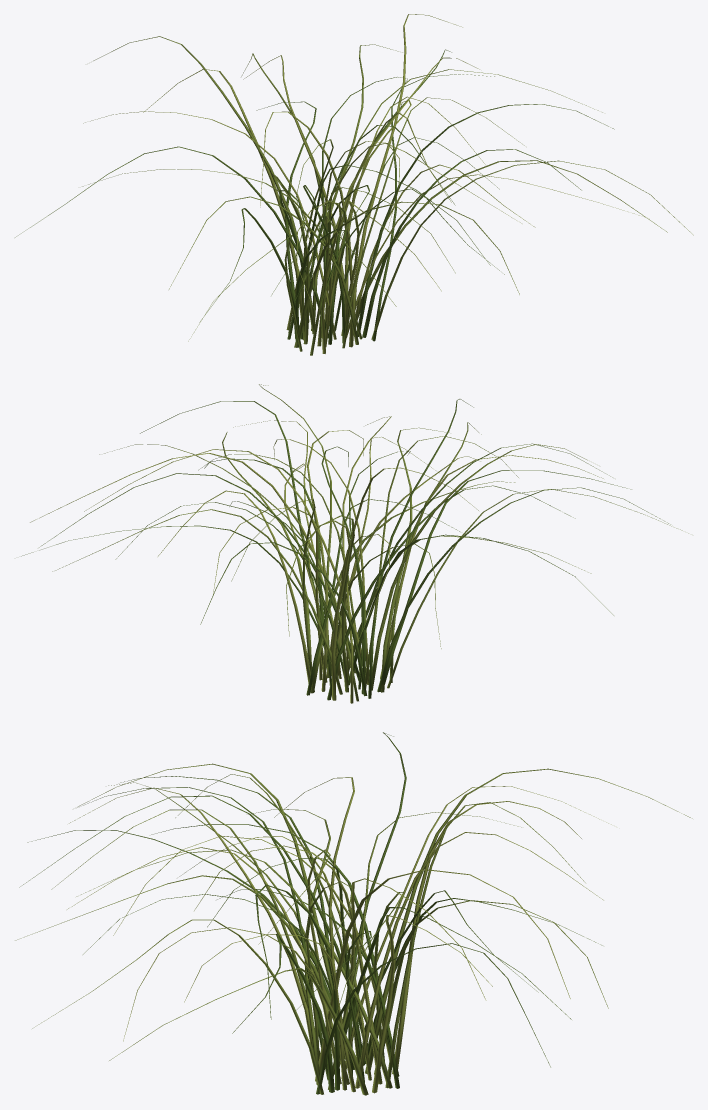
The model's file is filament-2.glb.
3 renders of one model, top to bottom at view 1: azimuth 30°, elevation 25°; view 2: azimuth 150°, elevation 25°; view 3: azimuth 270°, elevation 25°, orthographic. The views are drawn at different scales.
Visible parts, largest first — view 1: Filament_2; view 2: Filament_2; view 3: Filament_2.
Part boxes in pixels (x1,y1,x2,y2): Filament_2: [15, 14, 693, 355]; Filament_2: [21, 384, 688, 703]; Filament_2: [15, 732, 692, 1095].
Bounding box in the file's own units: 2.01 × 0.8331 × 1.87.
